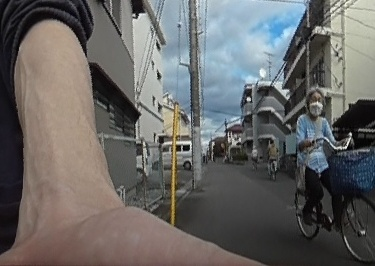person: (294, 87, 335, 228), (266, 137, 277, 171)
